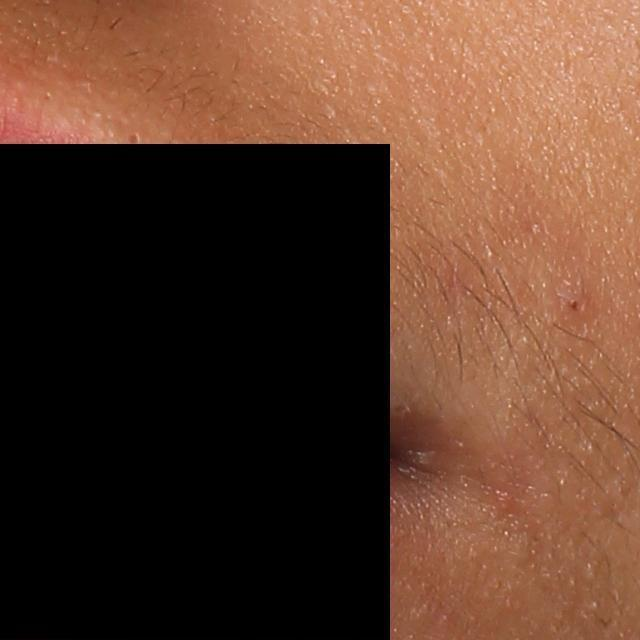comedo: (566, 295, 586, 322), (123, 130, 142, 152)
